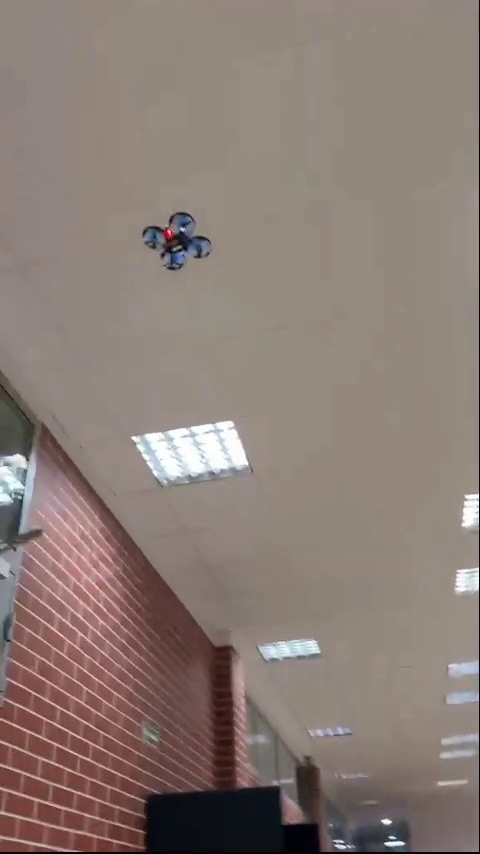drone: (140, 208, 213, 271)
